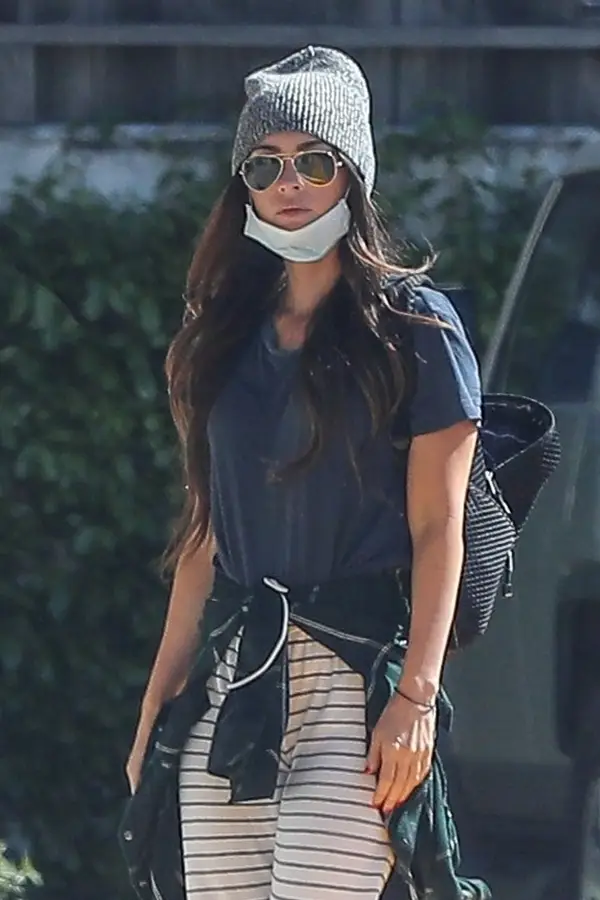mask_weared_incorrect: (219, 118, 372, 263)
